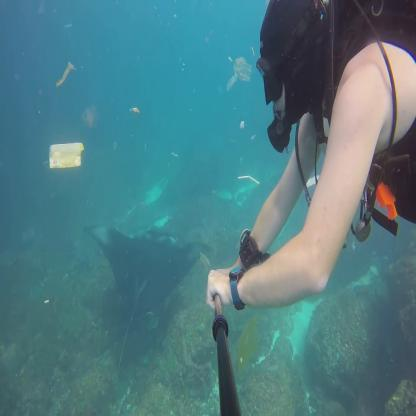Rác: (47, 134, 94, 185), (224, 51, 254, 95), (233, 164, 258, 192), (51, 60, 75, 88)
